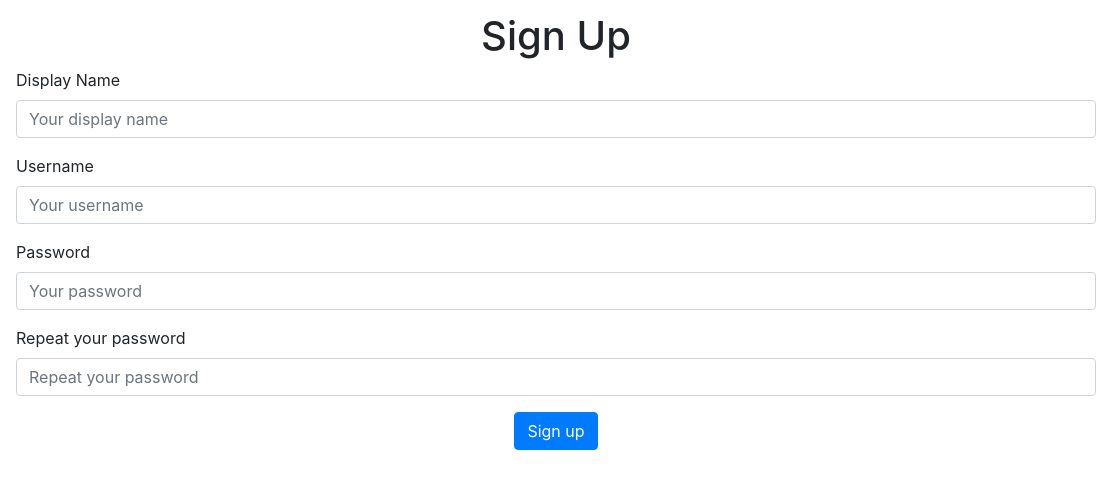
Test case: UserSignupPage › Interactions › disables signup button when password repeat is not equal to password
Type "display-name" into the field with placeholder "Your display name".
click(556, 119); type("display-name")  # box [16,100,1096,138]
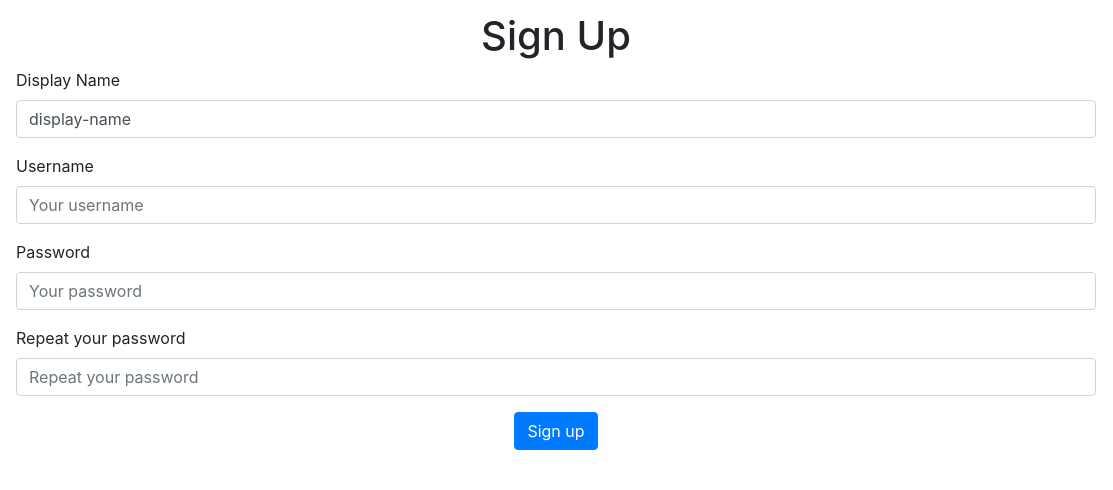
Type "username" into the field with placeholder "Your username".
click(556, 205); type("username")  # box [16,186,1096,224]
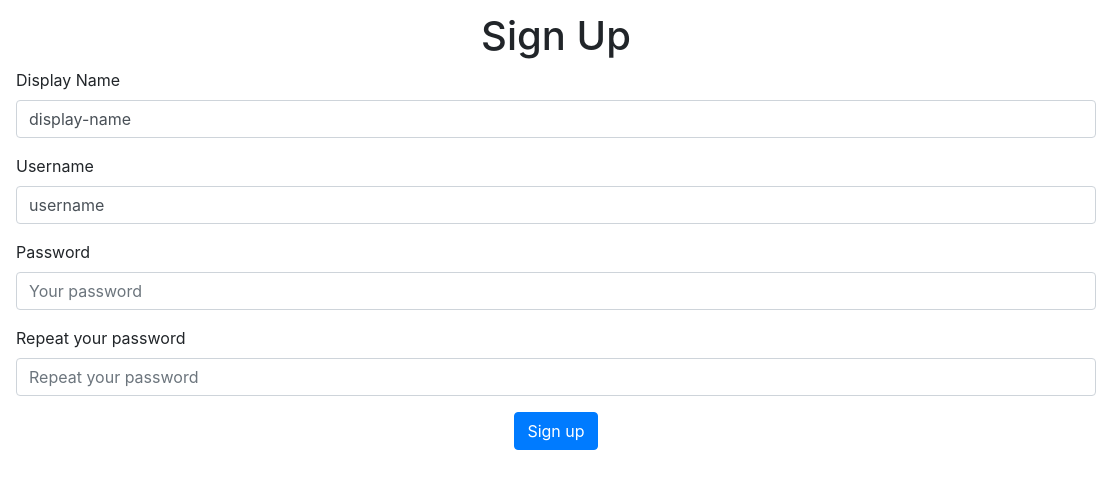
Type "password" into the password field with placeholder "Your password".
click(556, 291); type("password")  # box [16,272,1096,310]
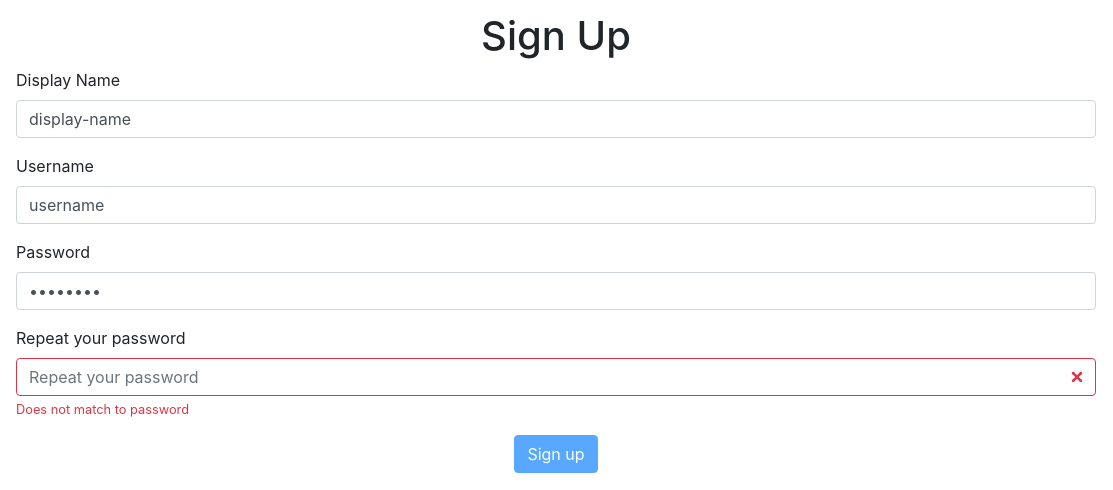
Type "password" into the password field with placeholder "Repeat your password".
click(556, 377); type("password")  # box [16,358,1096,396]
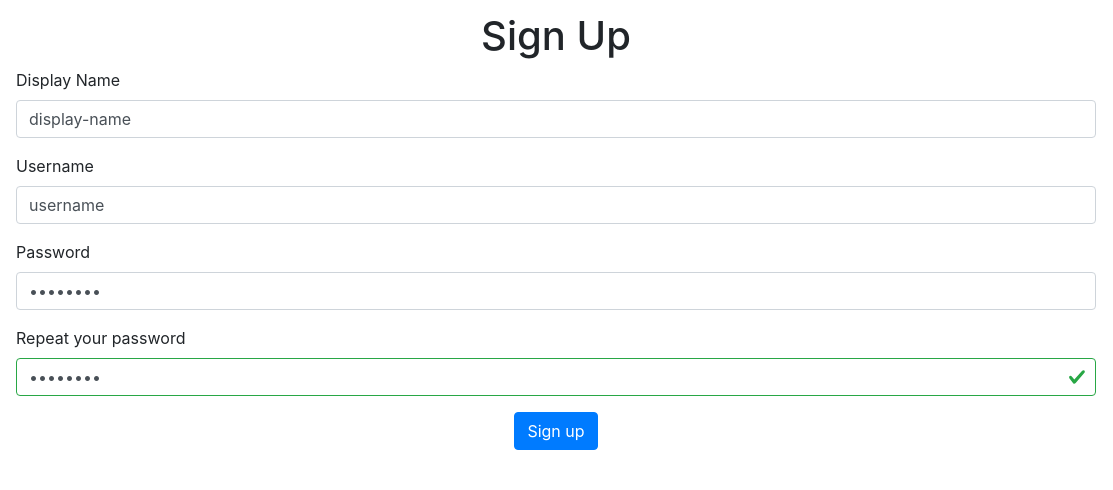
Type "abcde" into the password field with placeholder "Repeat your password" below "Repeat your password".
click(556, 377); type("abcde")  # box [16,358,1096,396]
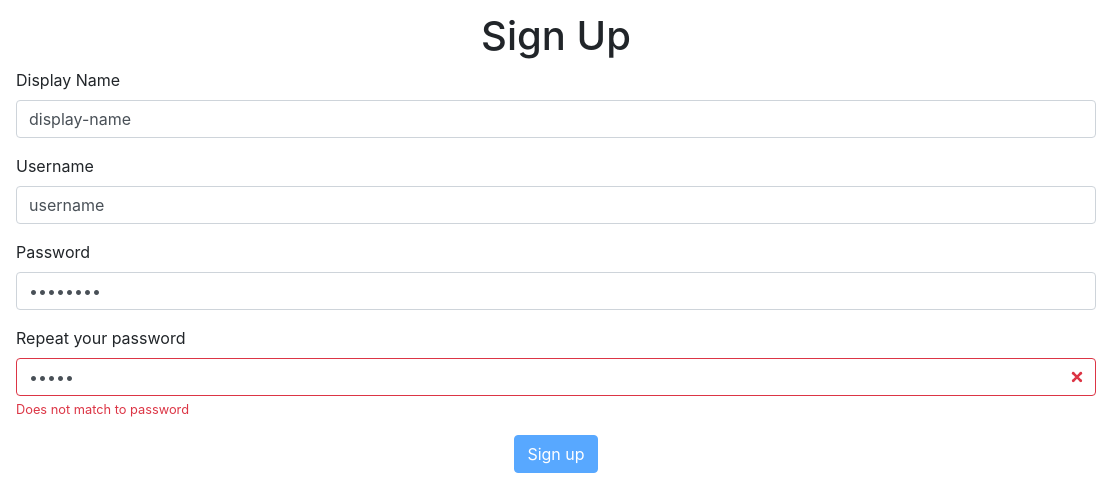
Expected: the button "Sign up" is disabled, [514,435,598,473]
